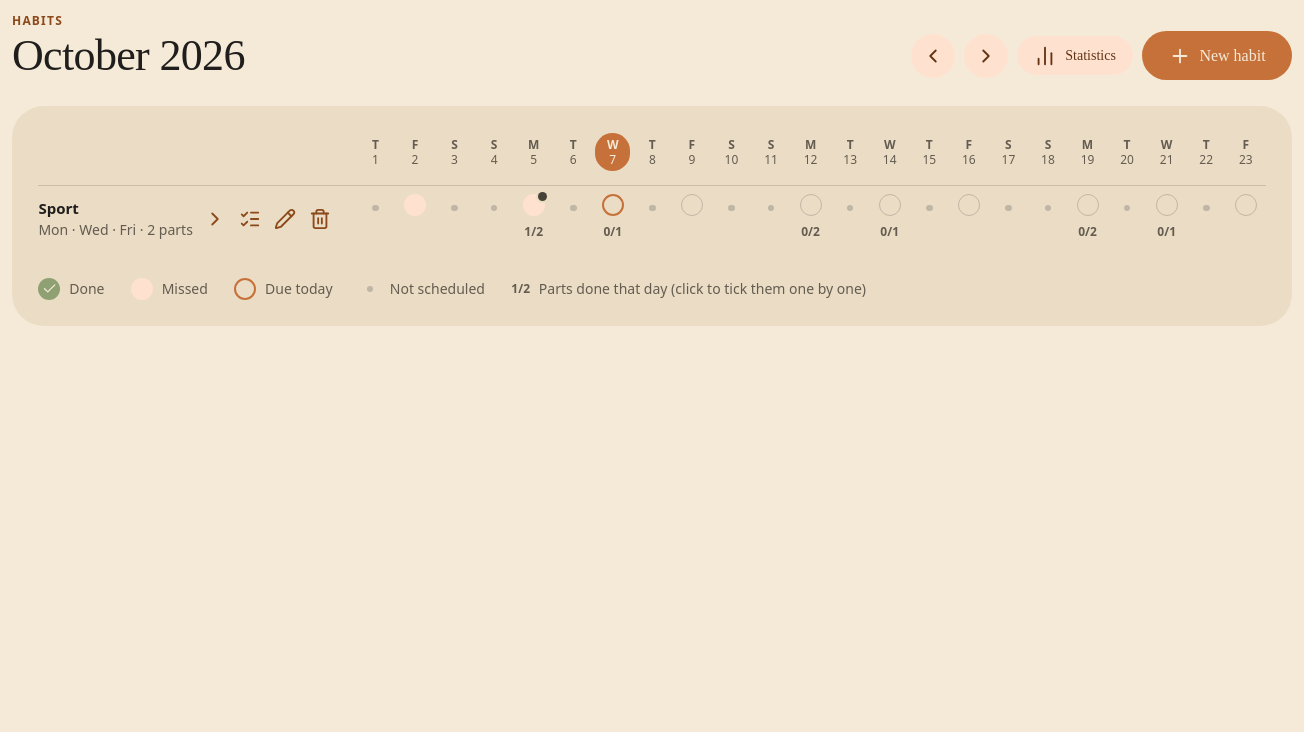
it: notes on the parts of a habit › writes a new note to the server, and the card of the habit’s cell then lists it
Check: the table is shown, box [38,133,1266,252]
Click the button named "Show parts of Sport" at (215, 219), box [197,201,232,236]
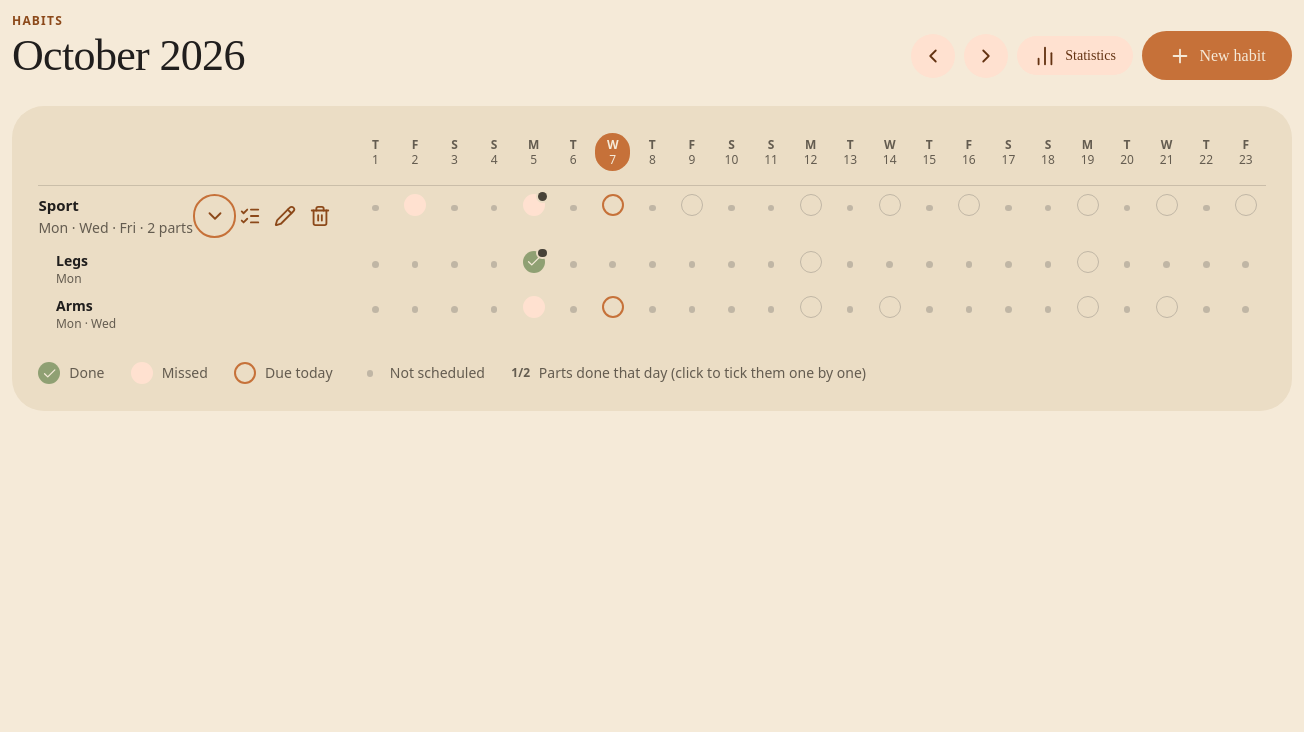
Hover over the button named "Sport: Arms, Wed 7 Oct" at (613, 307), box [602,296,624,318]
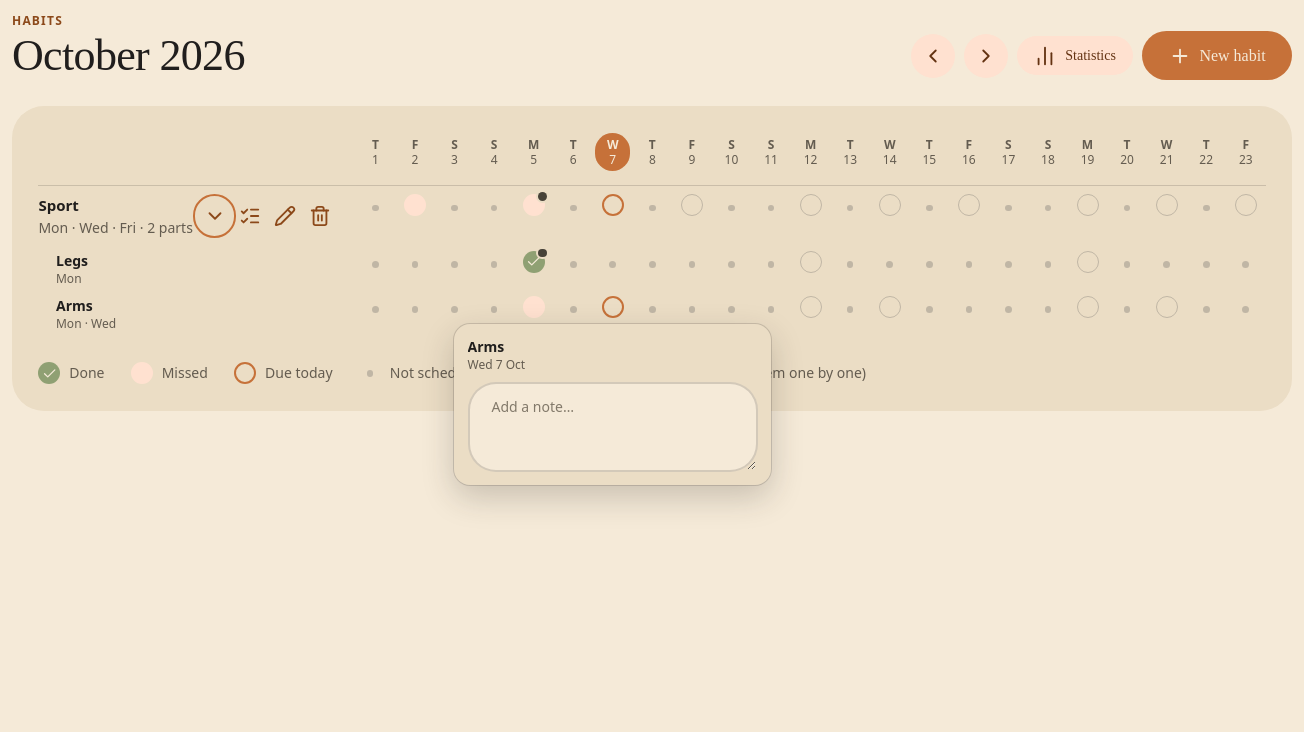
Type " bench 3 x 8 " into the text box named "Note for Arms, Wed 7 Oct" at (613, 427), box [468,382,758,472]
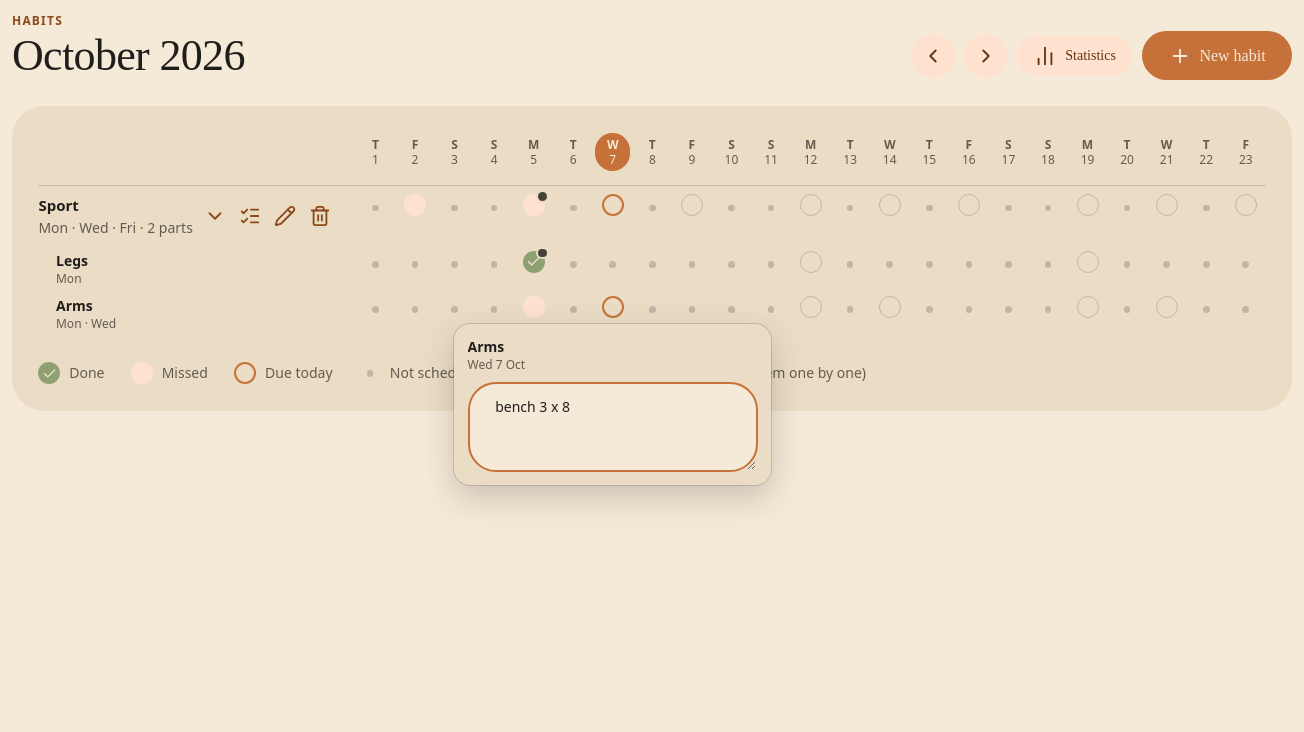
Press Tab
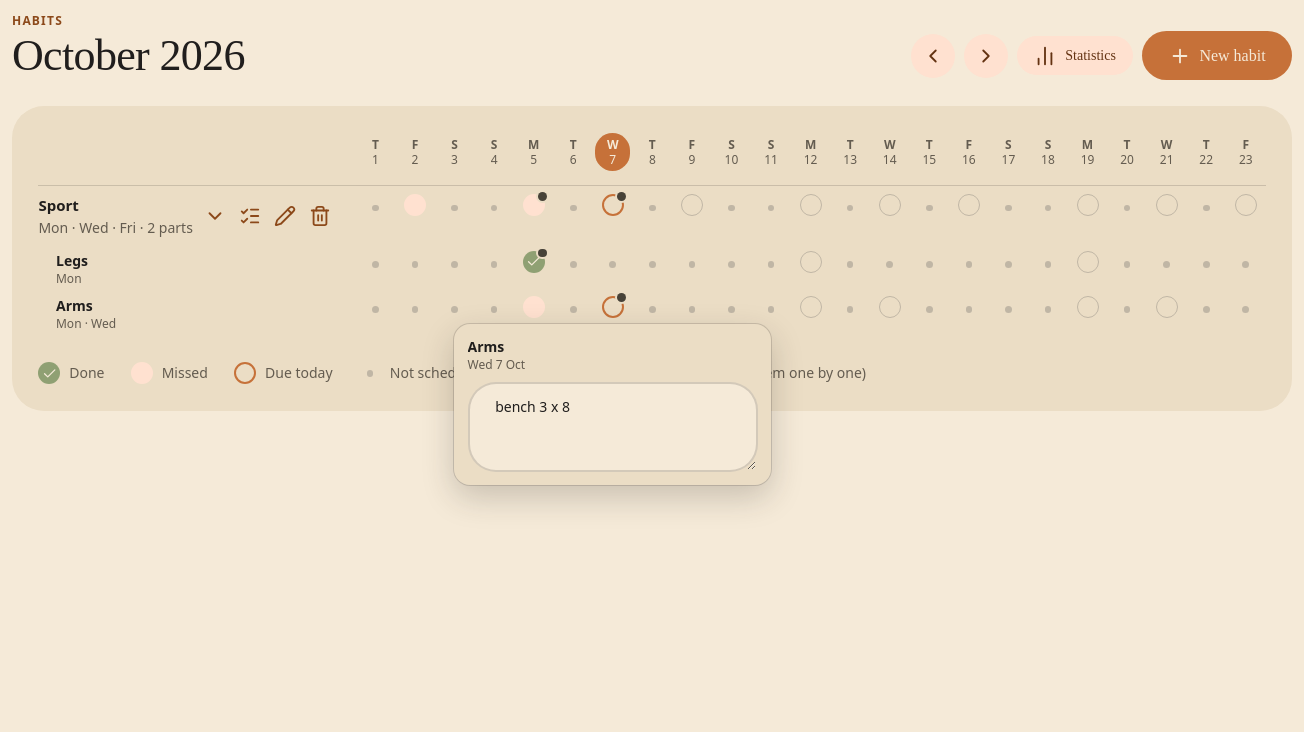
Hover over the button named "Sport, Wed 7 Oct" at (613, 205), box [602,194,624,216]
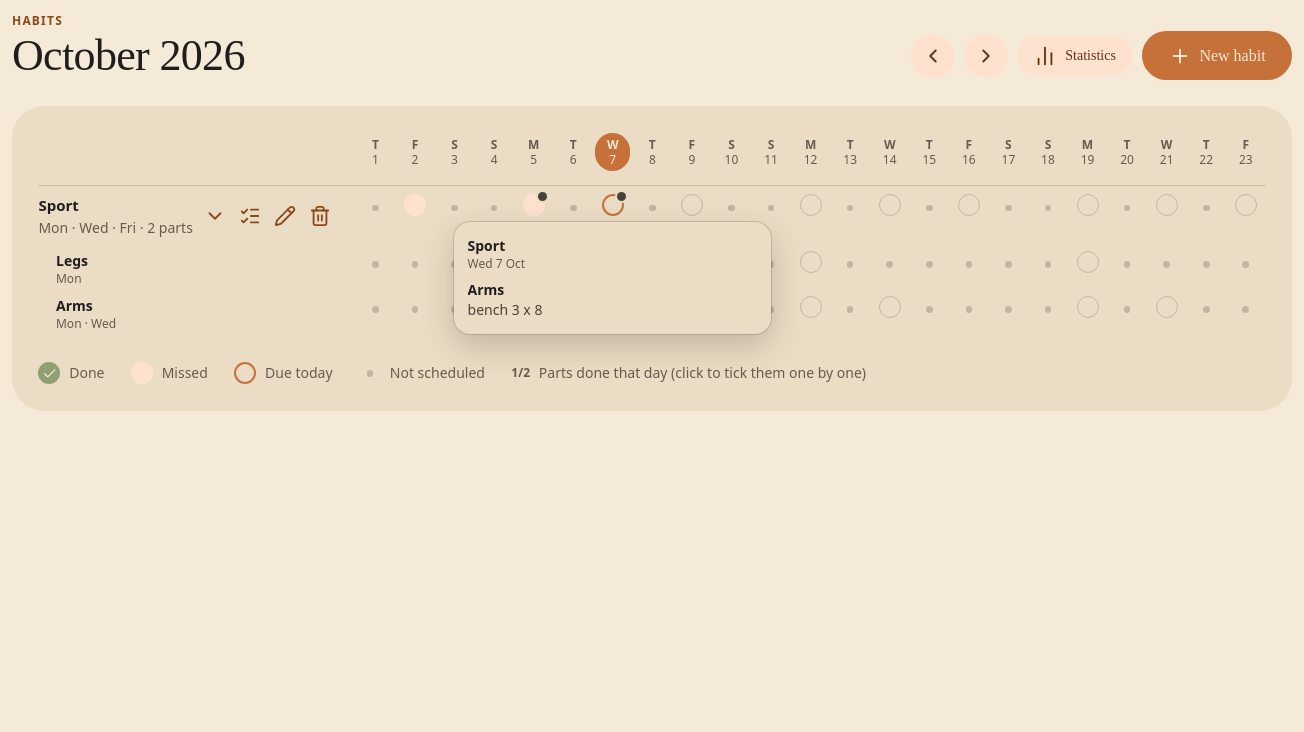
Check: the element named "Parts, Sport, Wed 7 Oct" shows "Arms", box [468,280,504,299]
Check: the element named "Parts, Sport, Wed 7 Oct" shows "bench 3 x 8", box [468,300,542,319]
